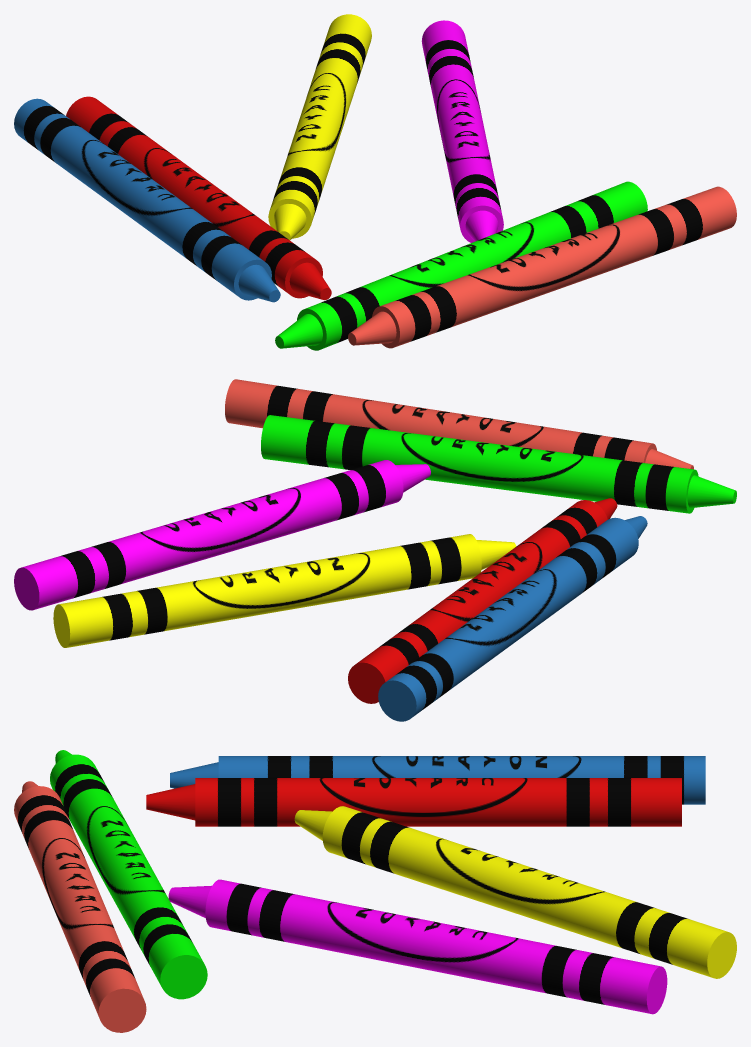
File: Crayons.fbx
3 views of the same model, one above another, from view 1: azimuth 30°, elevation 25°; view 2: azimuth 150°, elevation 25°; view 3: azimuth 270°, elevation 25° (orthographic). The views are drawn at different scales.
Parts seen in each view (by area): view 1: Crayons; view 2: Crayons; view 3: Crayons.
Part boxes in pixels (x1,y1,x2,y2): Crayons: (14, 14, 736, 350); Crayons: (14, 379, 736, 721); Crayons: (14, 750, 736, 1032).
Bounding box in the file's own units: 12.47 × 1.01 × 14.85.
1 material, 1 textured.
